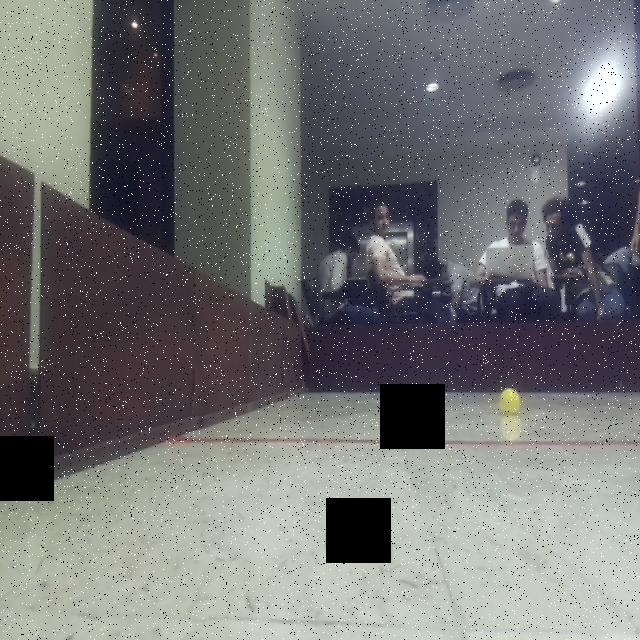ball: (496, 383, 526, 422)
